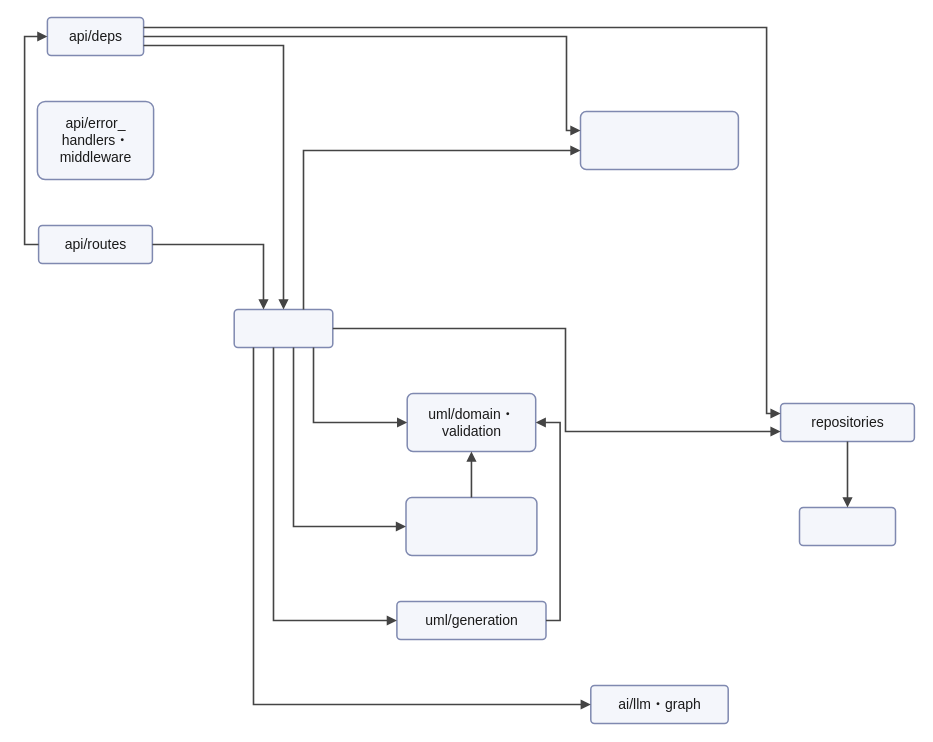
Image size: 933x742. Some labels were removed from this diagram. The shapes that lost their labels are listed below. From the top down, each one's centre as x and y in pixels, then its label:
point 659,140: infrastructure/ redis
point 283,328: services
point 471,526: uml/layout・ export・sync
point 847,526: models
